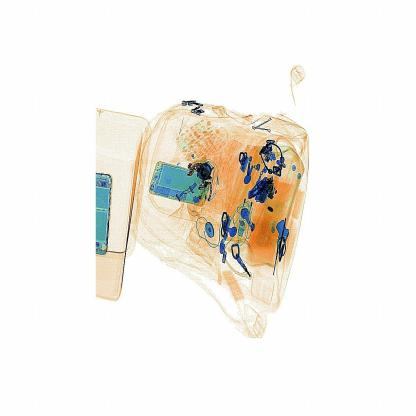knife: (245, 165, 271, 209)
